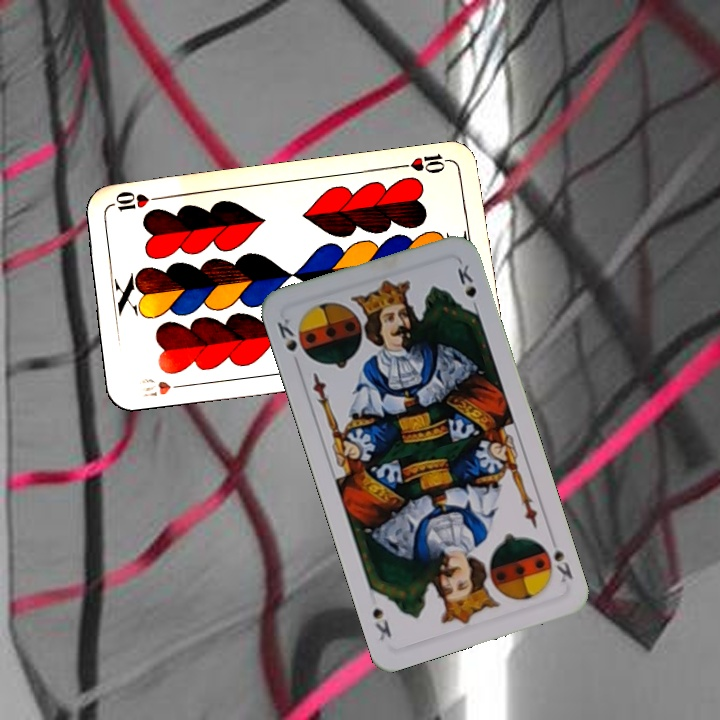H10: (396, 149, 455, 177), (134, 373, 190, 400)
SK: (273, 314, 311, 363), (545, 532, 576, 586)
